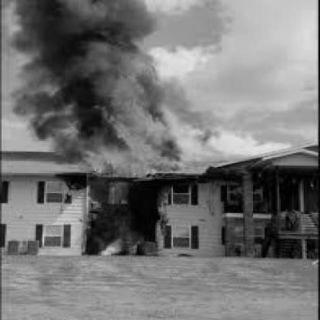Smoke: (9, 0, 145, 151)
